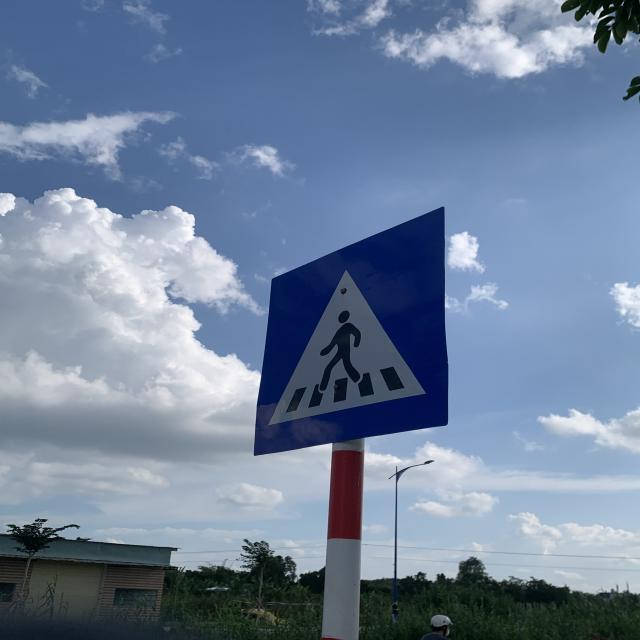Giao_Nhau_Duong_Uu_Tien: (254, 205, 449, 456)
